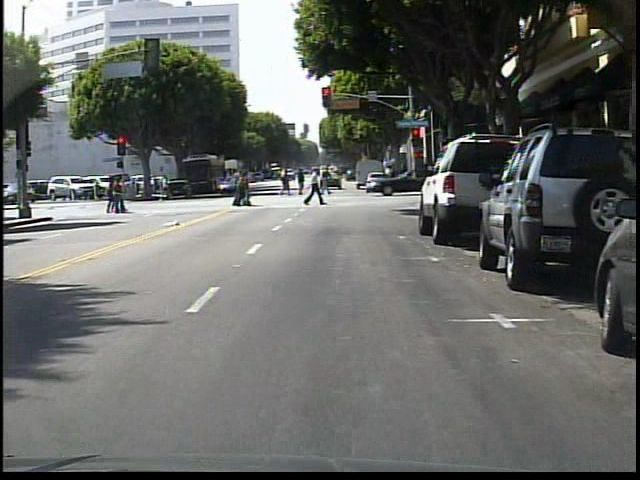person: (304, 166, 326, 212), (157, 170, 176, 200), (321, 167, 336, 196)
